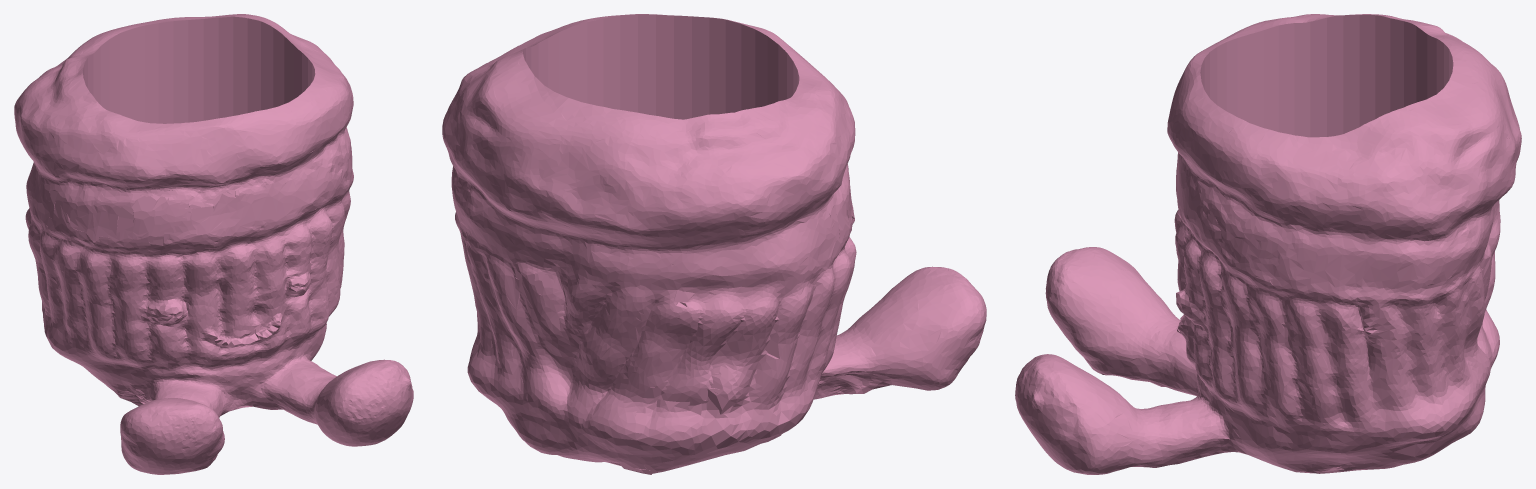
The model's file is Jellycat_cup_Tinkercad.glb.
3 renders of one model, left to right at view 1: azimuth 30°, elevation 25°; view 2: azimuth 150°, elevation 25°; view 3: azimuth 270°, elevation 25°, orthographic. The views are drawn at different scales.
Visible parts, largest first — view 1: Mesh_Mesh_head_geo.001_lambert2SG.001; view 2: Mesh_Mesh_head_geo.001_lambert2SG.001; view 3: Mesh_Mesh_head_geo.001_lambert2SG.001.
Part boxes in pixels (x1=…): Mesh_Mesh_head_geo.001_lambert2SG.001: x1=14, y1=14, x2=413, y2=474; Mesh_Mesh_head_geo.001_lambert2SG.001: x1=442, y1=14, x2=986, y2=474; Mesh_Mesh_head_geo.001_lambert2SG.001: x1=1015, y1=14, x2=1521, y2=474.
Bounding box in the file's own units: 0.126 × 0.1198 × 0.1482.
